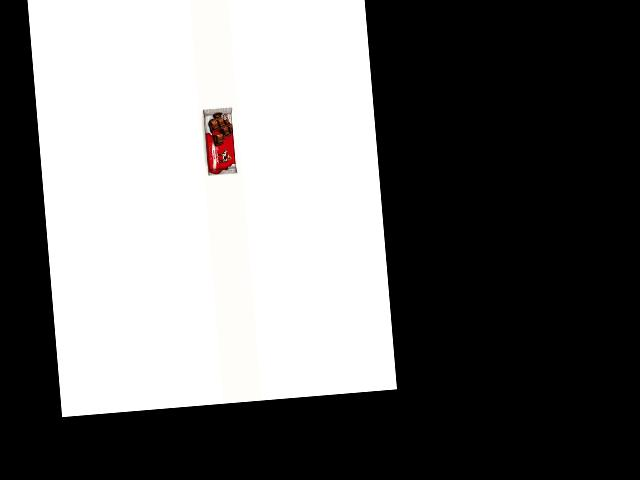chocolate: (197, 105, 239, 177)
